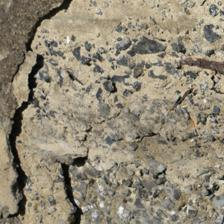Crack: (0, 71, 145, 156), (44, 0, 80, 78), (79, 24, 142, 63)
